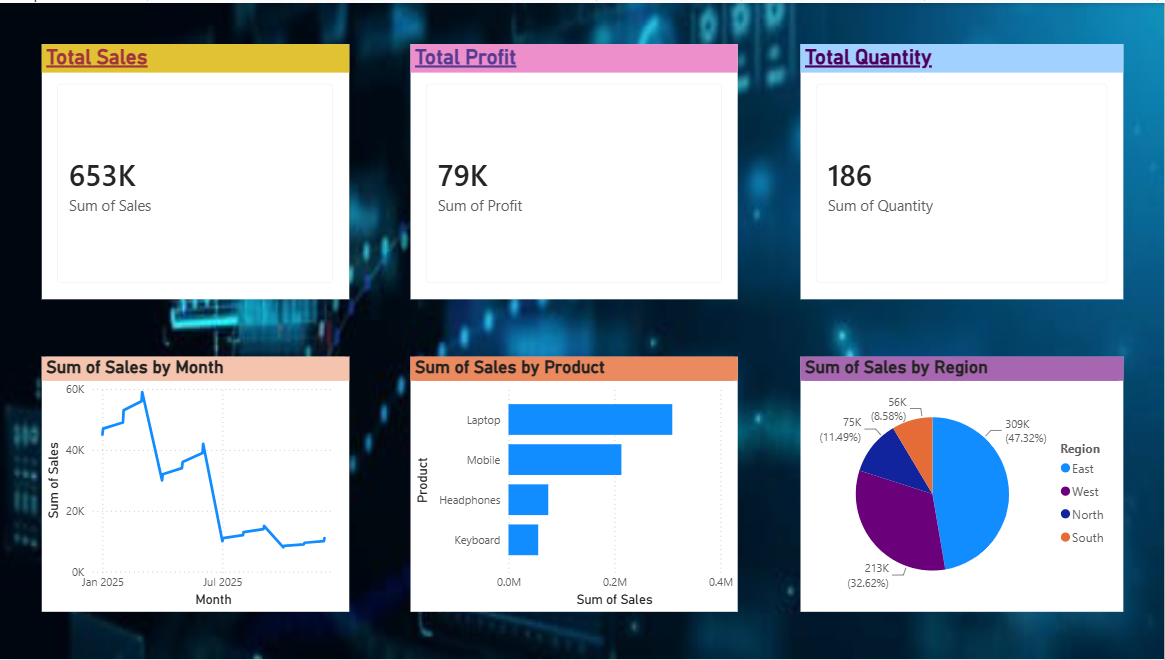

Layout of this report page (visuals, bound fields, positions):
{"tool":"powerbi","page":{"name":"Page 1","canvas":[1280,720],"ordinal":0},"visuals":[{"type":"cardVisual","title":"Total Sales","fields":{"Data":["Sum(Sales Data.Sales)"]},"box":[48,45.3,337.6,279.9],"z":0},{"type":"cardVisual","title":"Total Profit","fields":{"Data":["Sum(Sales Data.Profit)"]},"box":[452.8,45.3,359.5,279.9],"z":1},{"type":"cardVisual","title":"Total Quantity","fields":{"Data":["Sum(Sales Data.Quantity)"]},"box":[881,45.3,354,279.9],"z":2},{"type":"lineChart","fields":{"Y":["Sum(Sales Data.Sales)"],"Category":["Sales Data.Month"]},"box":[48,388.3,337.6,279.9],"z":3},{"type":"clusteredBarChart","fields":{"Category":["Sales Data.Product"],"Y":["Sum(Sales Data.Sales)"]},"box":[452.8,388.3,359.5,279.9],"z":4},{"type":"pieChart","fields":{"Category":["Sales Data.Region"],"Y":["Sum(Sales Data.Sales)"]},"box":[881,388.3,354,279.9],"z":5}]}

Visuals, with their boxes in screenshot pixels (x1, y1, x2, y2), scaled from the page's 1280x720 canvas onto the 1165x660 screenshot:
"Total Sales" cardVisual: <region>44, 42, 351, 298</region>
"Total Profit" cardVisual: <region>412, 42, 739, 298</region>
"Total Quantity" cardVisual: <region>802, 42, 1124, 298</region>
lineChart - Sum(Sales Data.Sales) x Sales Data.Month: <region>44, 356, 351, 613</region>
clusteredBarChart - Sales Data.Product x Sum(Sales Data.Sales): <region>412, 356, 739, 613</region>
pieChart - Sales Data.Region x Sum(Sales Data.Sales): <region>802, 356, 1124, 613</region>
